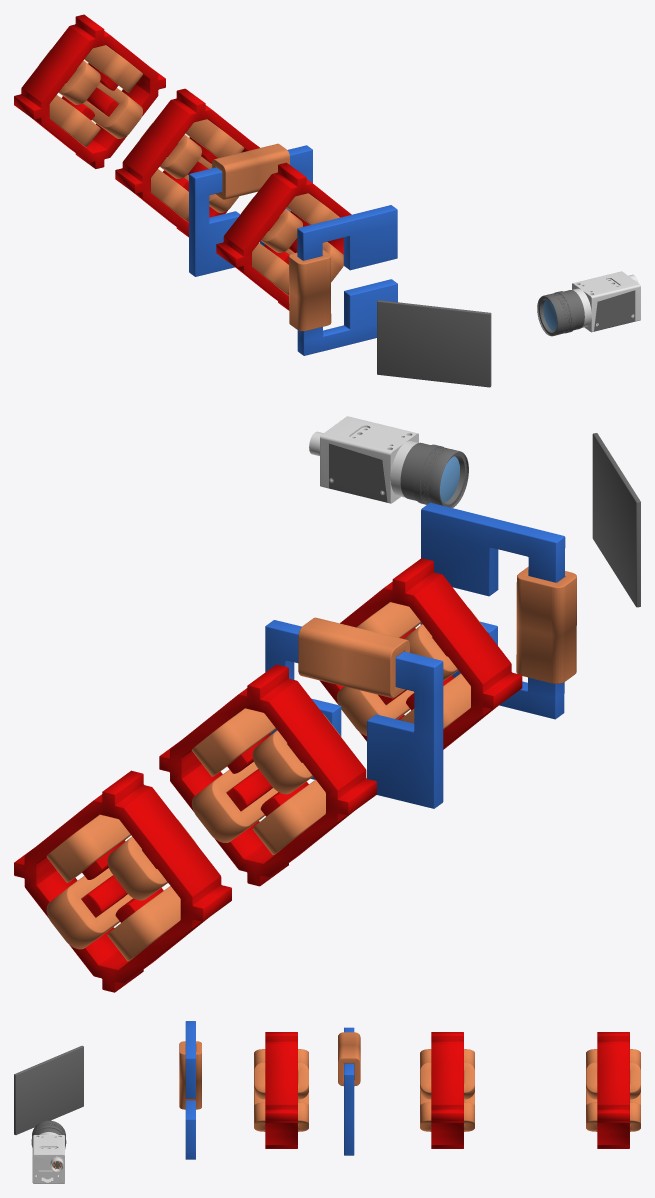
3 views of the same model, one above another, from view 1: azimuth 30°, elevation 25°; view 2: azimuth 150°, elevation 25°; view 3: azimuth 270°, elevation 25° (orthographic). The views are drawn at different scales.
Visible parts, largest first — view 1: screen.glb, quadrupole.glb, horizontal_corrector.glb_1, quadrupole.glb_2, quadrupole.glb_4, quadrupole.glb_1, vertical_corrector.glb, quadrupole.glb_3, quadrupole.glb_5, horizontal_corrector.glb, screen.glb_2, vertical_corrector.glb_1 (+1 smaller); view 2: quadrupole.glb, quadrupole.glb_2, vertical_corrector.glb, quadrupole.glb_1, quadrupole.glb_3, horizontal_corrector.glb_1, quadrupole.glb_4, horizontal_corrector.glb, vertical_corrector.glb_1, quadrupole.glb_5, screen.glb, screen.glb_2 (+1 smaller); view 3: screen.glb, quadrupole.glb, quadrupole.glb_2, quadrupole.glb_4, quadrupole.glb_5, quadrupole.glb_3, quadrupole.glb_1, screen.glb_1, horizontal_corrector.glb_1, vertical_corrector.glb, vertical_corrector.glb_1, horizontal_corrector.glb (+1 smaller).
Part boxes in pixels (bbox=[...]): screen.glb: bbox=[377, 300, 491, 387]; quadrupole.glb: bbox=[14, 14, 165, 168]; horizontal_corrector.glb_1: bbox=[297, 205, 397, 355]; quadrupole.glb_2: bbox=[115, 88, 259, 237]; quadrupole.glb_4: bbox=[216, 162, 351, 310]; quadrupole.glb_1: bbox=[39, 45, 142, 147]; vertical_corrector.glb: bbox=[189, 145, 312, 276]; quadrupole.glb_3: bbox=[140, 119, 244, 221]; quadrupole.glb_5: bbox=[241, 193, 343, 295]; horizontal_corrector.glb: bbox=[289, 250, 331, 331]; screen.glb_2: bbox=[537, 290, 634, 336]; vertical_corrector.glb_1: bbox=[212, 143, 289, 199]; quadrupole.glb: bbox=[14, 770, 231, 992]; quadrupole.glb_2: bbox=[159, 664, 376, 886]; vertical_corrector.glb: bbox=[265, 620, 443, 808]; quadrupole.glb_1: bbox=[46, 814, 196, 961]; quadrupole.glb_3: bbox=[191, 708, 341, 854]; horizontal_corrector.glb_1: bbox=[420, 502, 565, 719]; quadrupole.glb_4: bbox=[319, 558, 522, 749]; horizontal_corrector.glb: bbox=[516, 566, 576, 683]; vertical_corrector.glb_1: bbox=[298, 617, 409, 698]; quadrupole.glb_5: bbox=[337, 602, 486, 735]; screen.glb: bbox=[592, 433, 640, 607]; screen.glb_2: bbox=[328, 442, 468, 507]; screen.glb: bbox=[14, 1045, 83, 1134]; quadrupole.glb: bbox=[597, 1032, 629, 1148]; quadrupole.glb_2: bbox=[431, 1032, 463, 1148]; quadrupole.glb_4: bbox=[265, 1032, 297, 1148]; quadrupole.glb_5: bbox=[254, 1049, 308, 1131]; quadrupole.glb_3: bbox=[420, 1049, 474, 1131]; quadrupole.glb_1: bbox=[586, 1049, 640, 1131]; screen.glb_1: bbox=[32, 1132, 65, 1183]; horizontal_corrector.glb_1: bbox=[185, 1021, 195, 1159]; vertical_corrector.glb: bbox=[344, 1027, 354, 1155]; vertical_corrector.glb_1: bbox=[338, 1032, 360, 1086]; horizontal_corrector.glb: bbox=[179, 1041, 201, 1109].
Size of the model in its own units: 0.852 by 0.4151 by 2.08.
